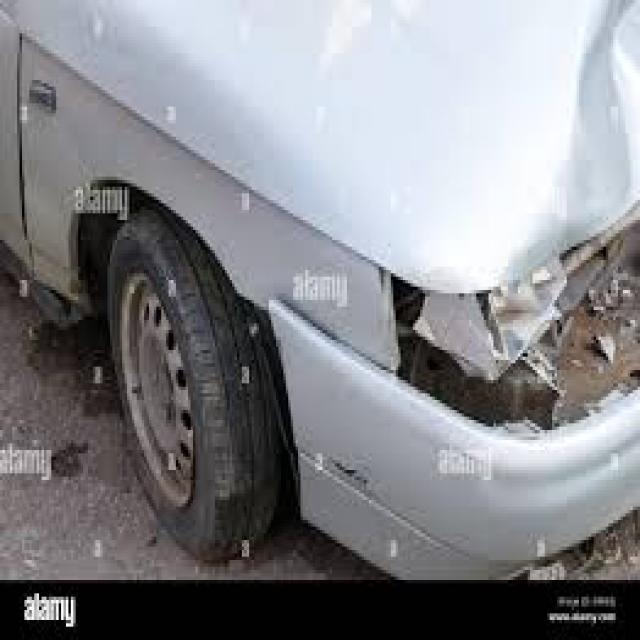damaged-head-light: (423, 235, 640, 409)
